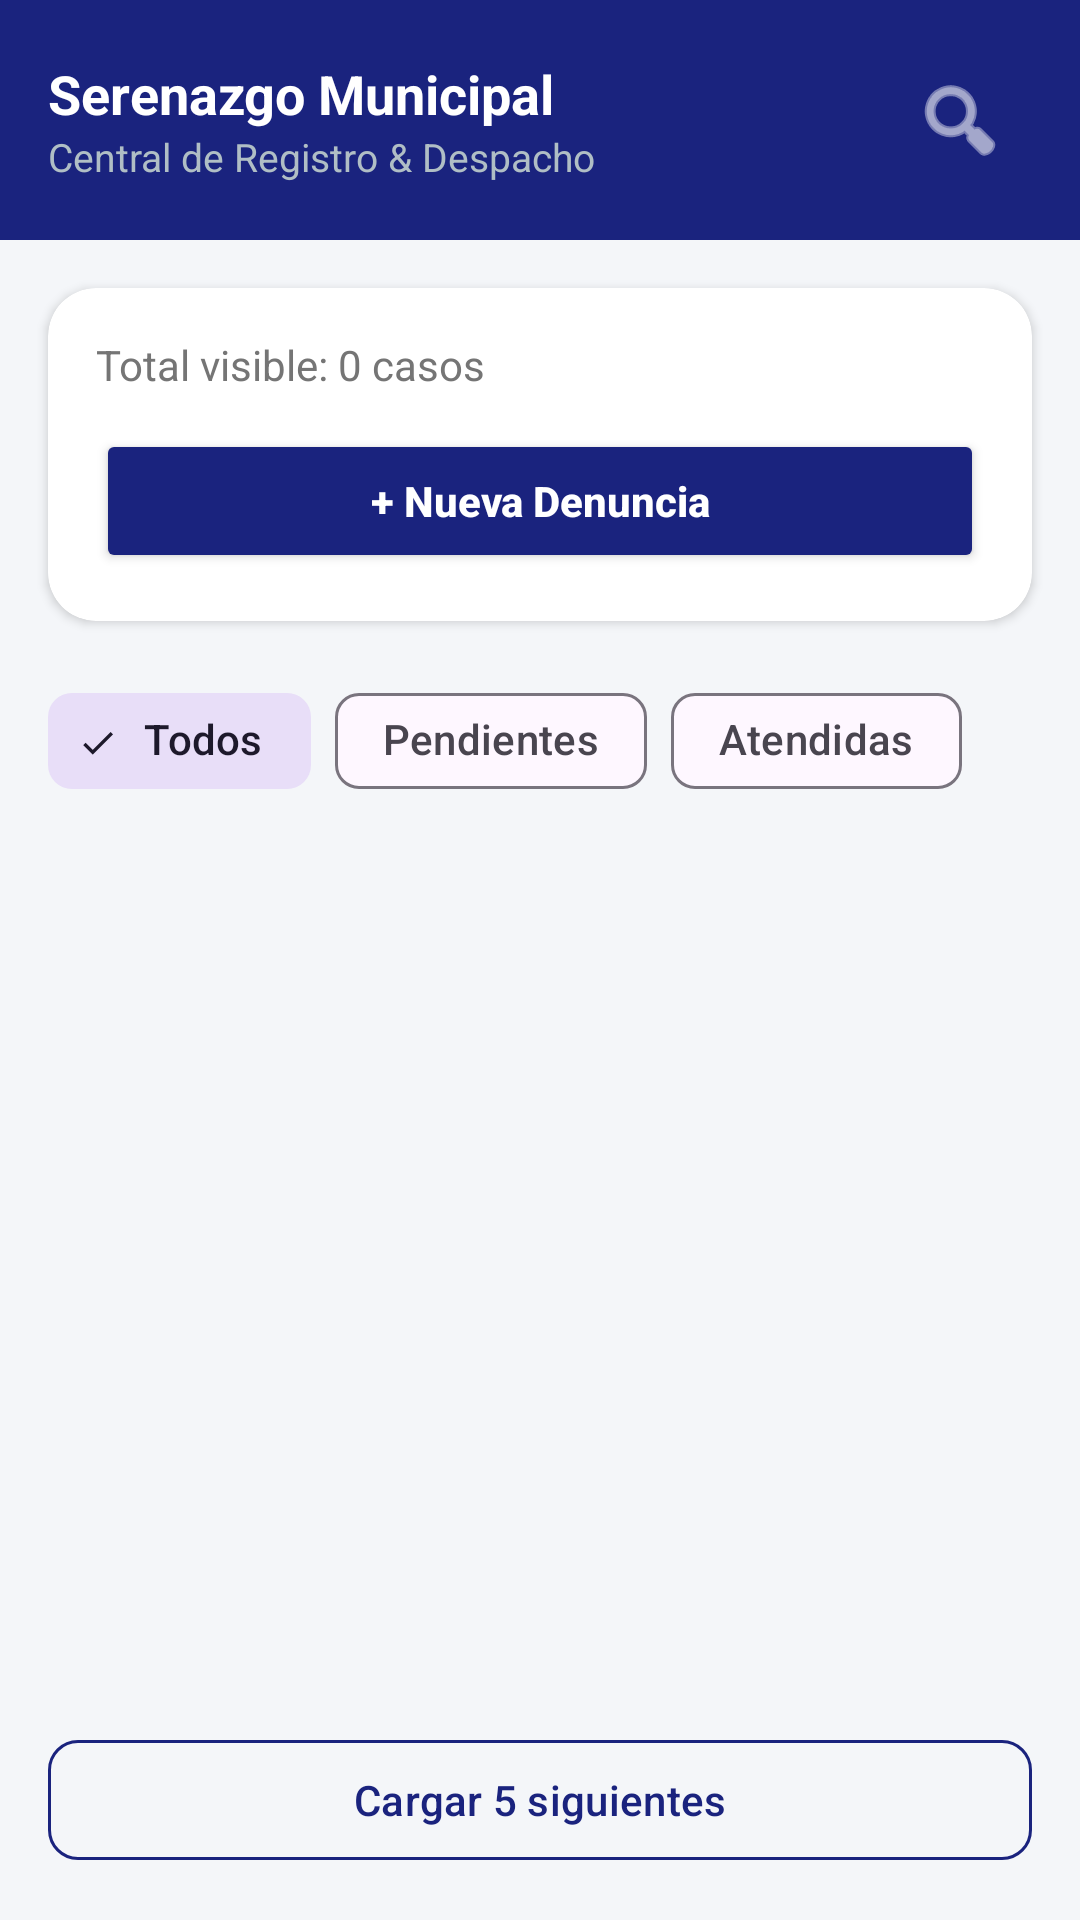

Point at icon controls on the screen. Image size 1080px x 1920px, points as point (x, y).
Buscar DNI: point (960, 120)
